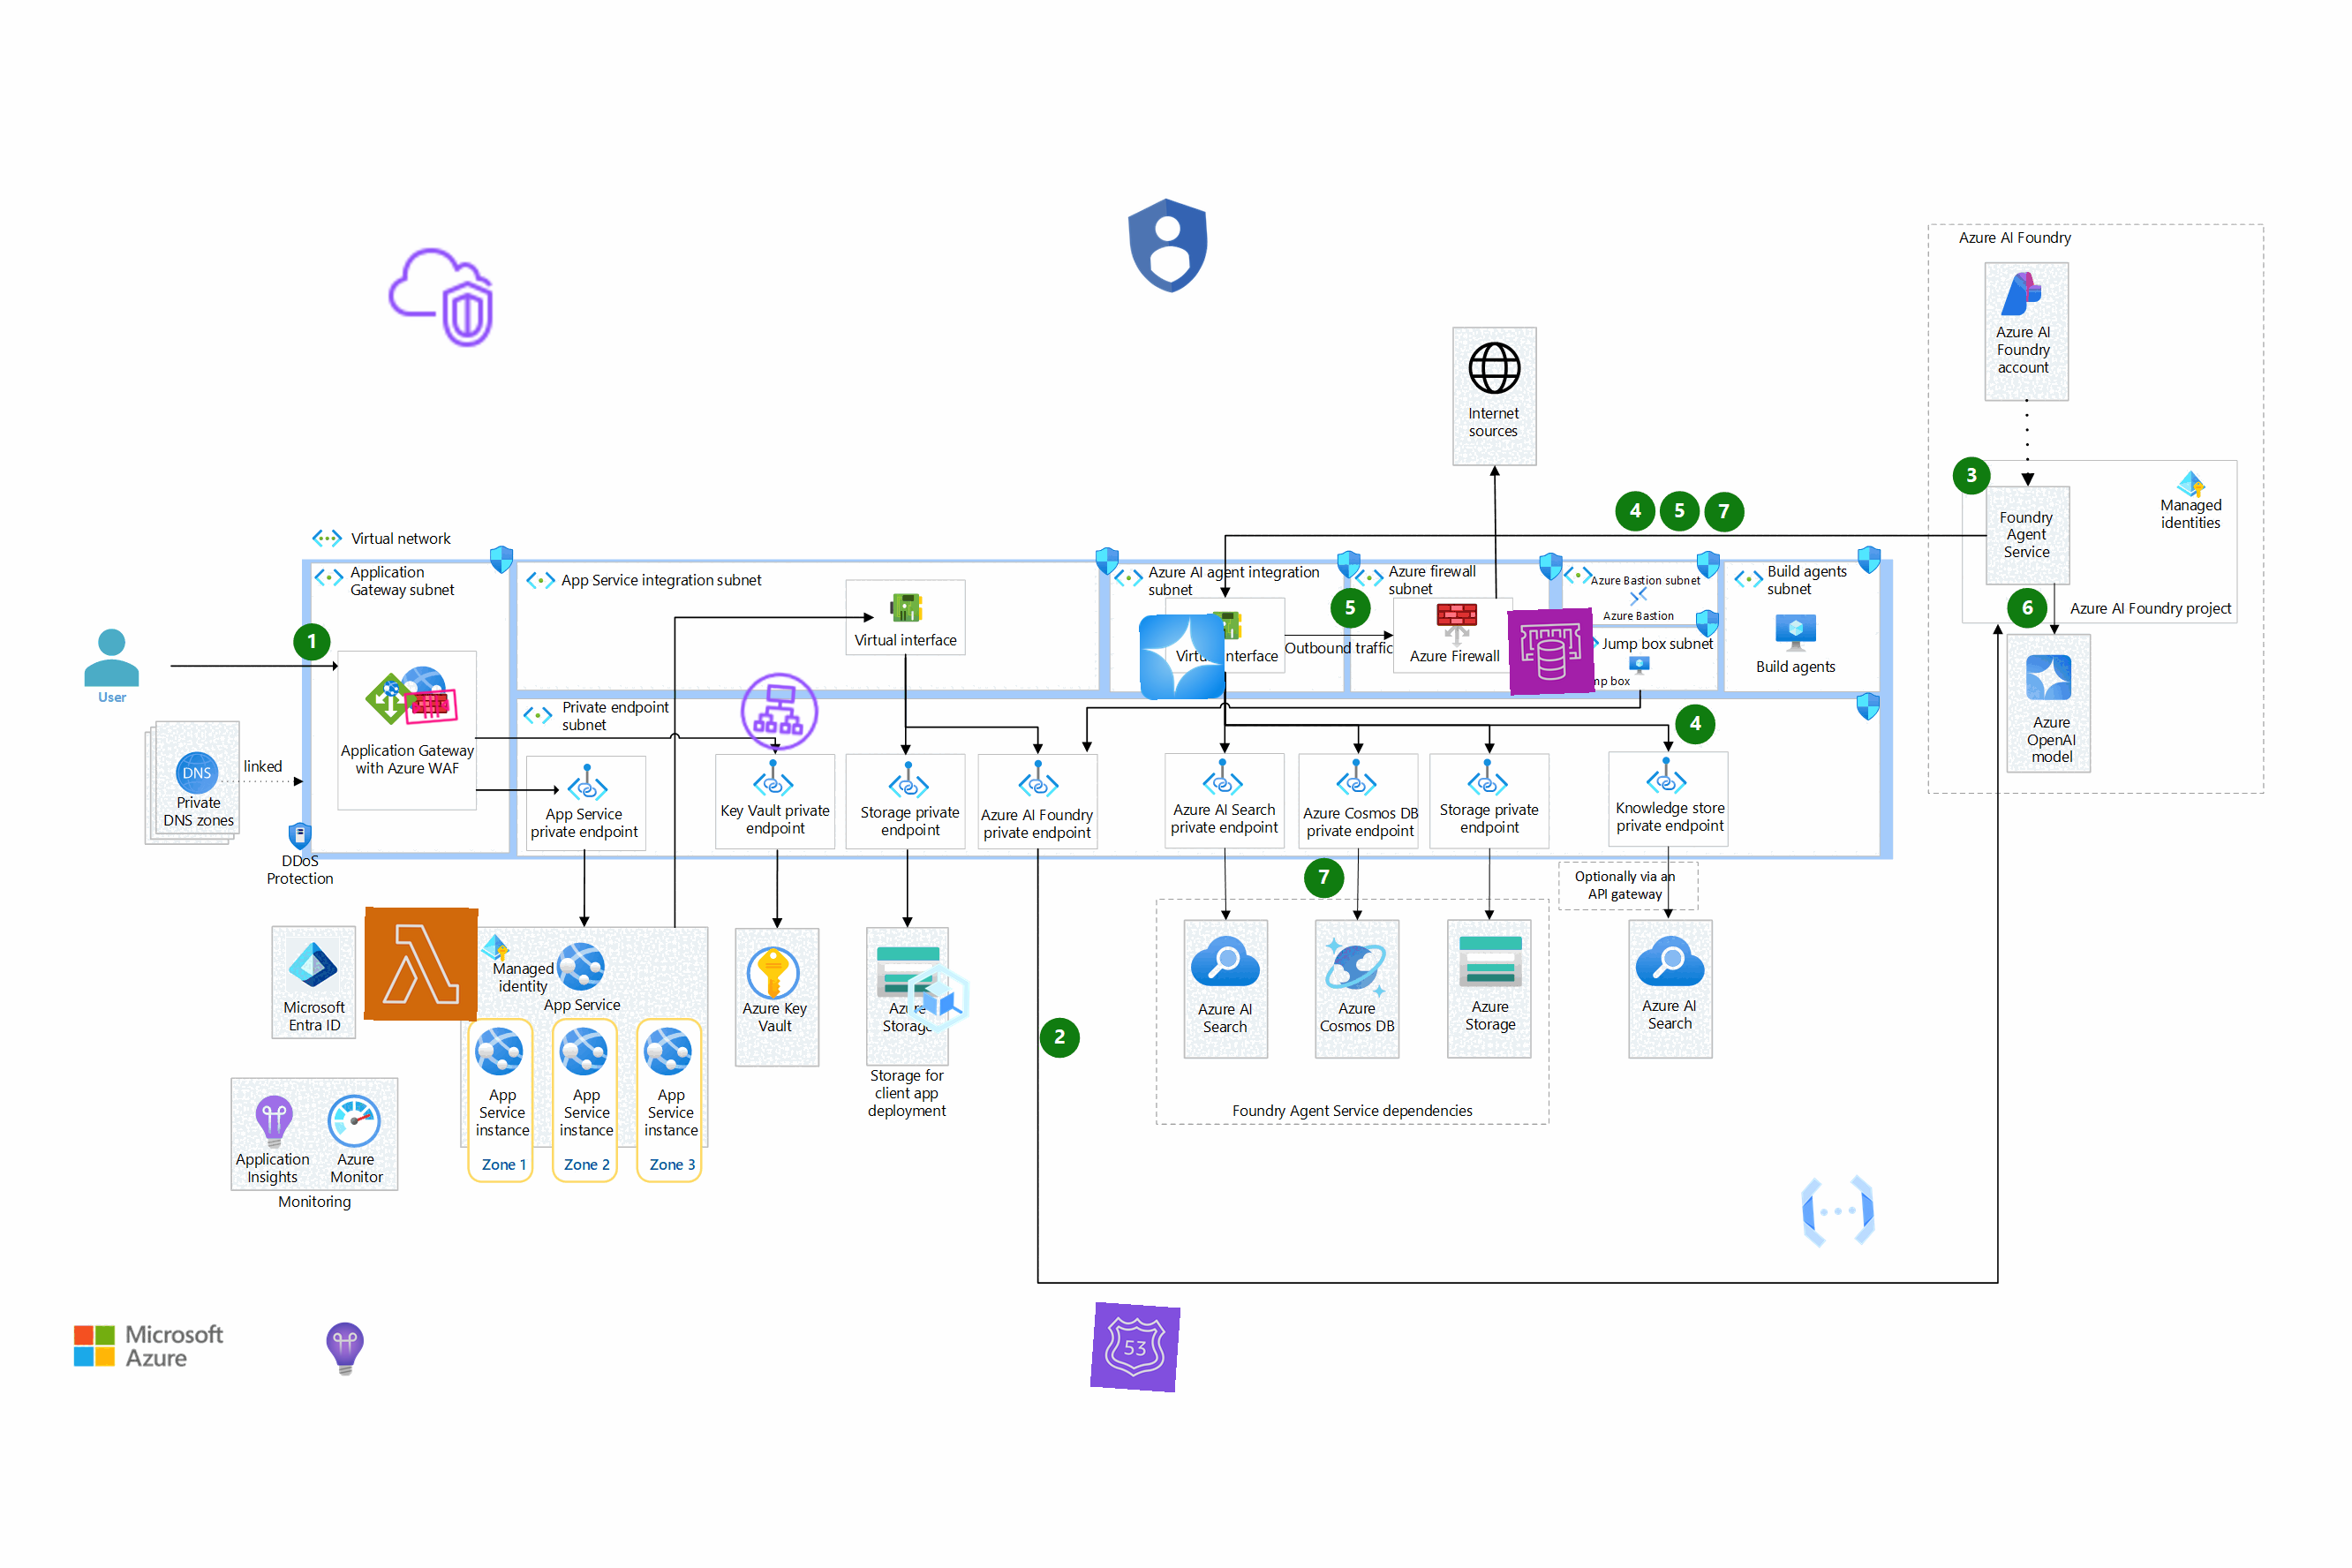aws_amazon_elasticache: (1507, 607, 1596, 696)
aws_amazon_route_53: (1090, 1302, 1181, 1393)
aws_elastic_load_balancing_application_load_balancer: (733, 665, 826, 758)
aws_lambda: (364, 906, 478, 1022)
aws_simple_queue_service_queue: (401, 675, 462, 737)
aws_vpc_virtual_private_cloud_vpc: (383, 240, 499, 355)
azure_application_insights: (317, 1319, 374, 1379)
azure_openai: (1139, 614, 1225, 700)
gcp_cloud_functions: (1792, 1165, 1885, 1256)
gcp_google_kubernetes_engine: (896, 955, 982, 1041)
gcp_identity_and_access_management: (1108, 184, 1230, 306)
